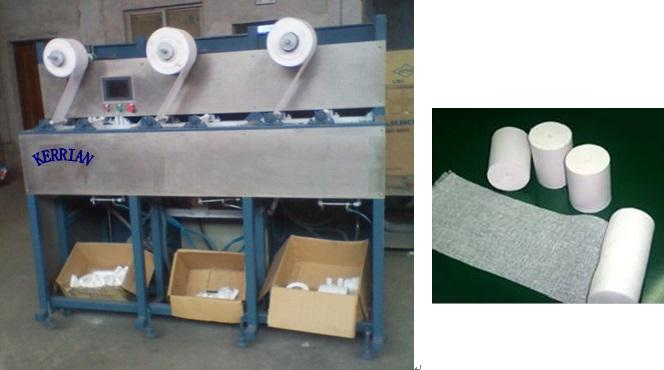bandage: (432, 169, 654, 303), (266, 19, 316, 119), (148, 28, 196, 121), (563, 144, 614, 213), (46, 39, 84, 129), (527, 122, 574, 190), (489, 129, 531, 193)
